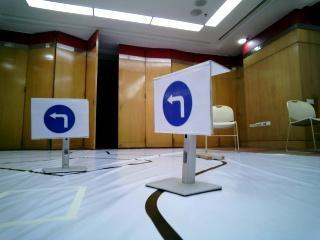left: (158, 69, 209, 135), (32, 99, 87, 137)
